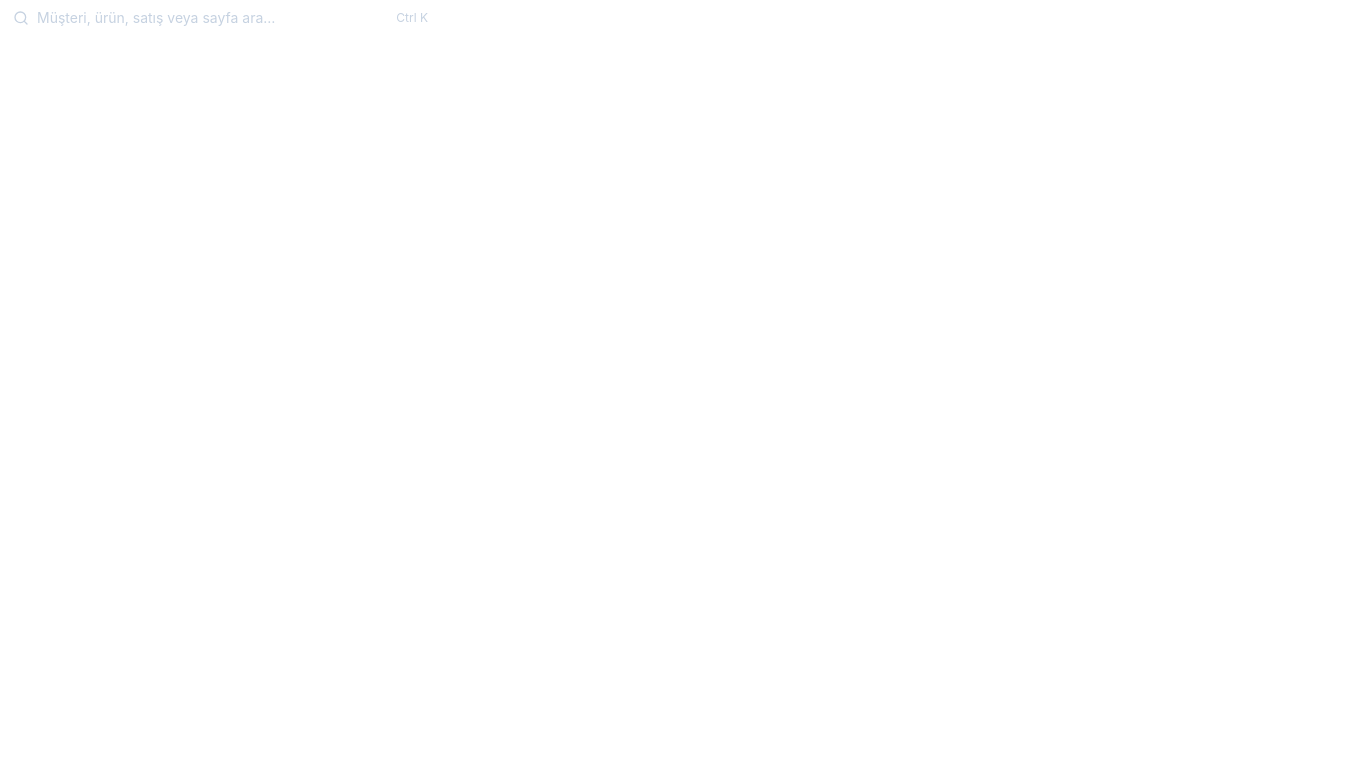
it: CommandMenu (Ctrl+K) › API araması 2 karakterden sonra çağrılır; sonuç yoksa mesaj gösterir
This screenshot has width=1366, height=768.
Press k
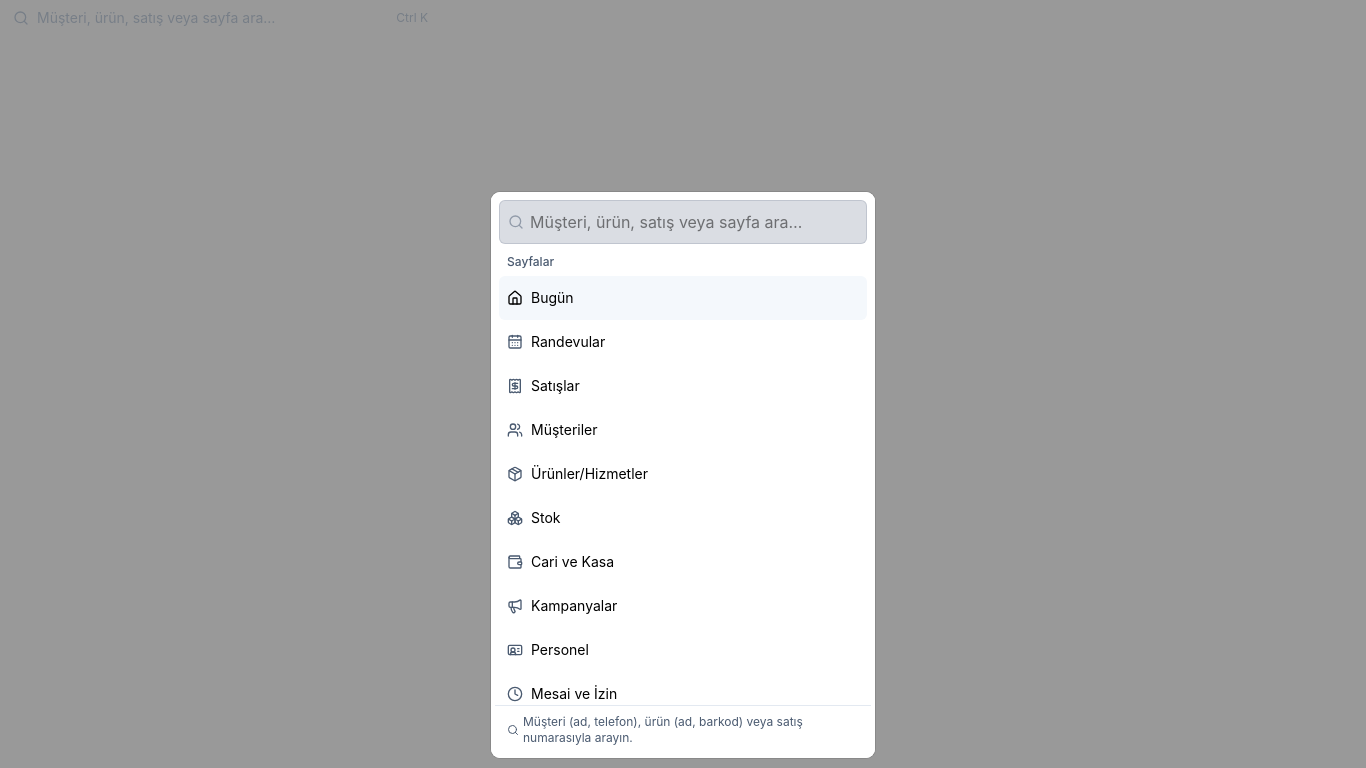
Type "zzz" into the dropdown with placeholder "Müşteri, ürün, satış veya sayfa ara…". click: (695, 222)
box: [524, 210, 866, 234]
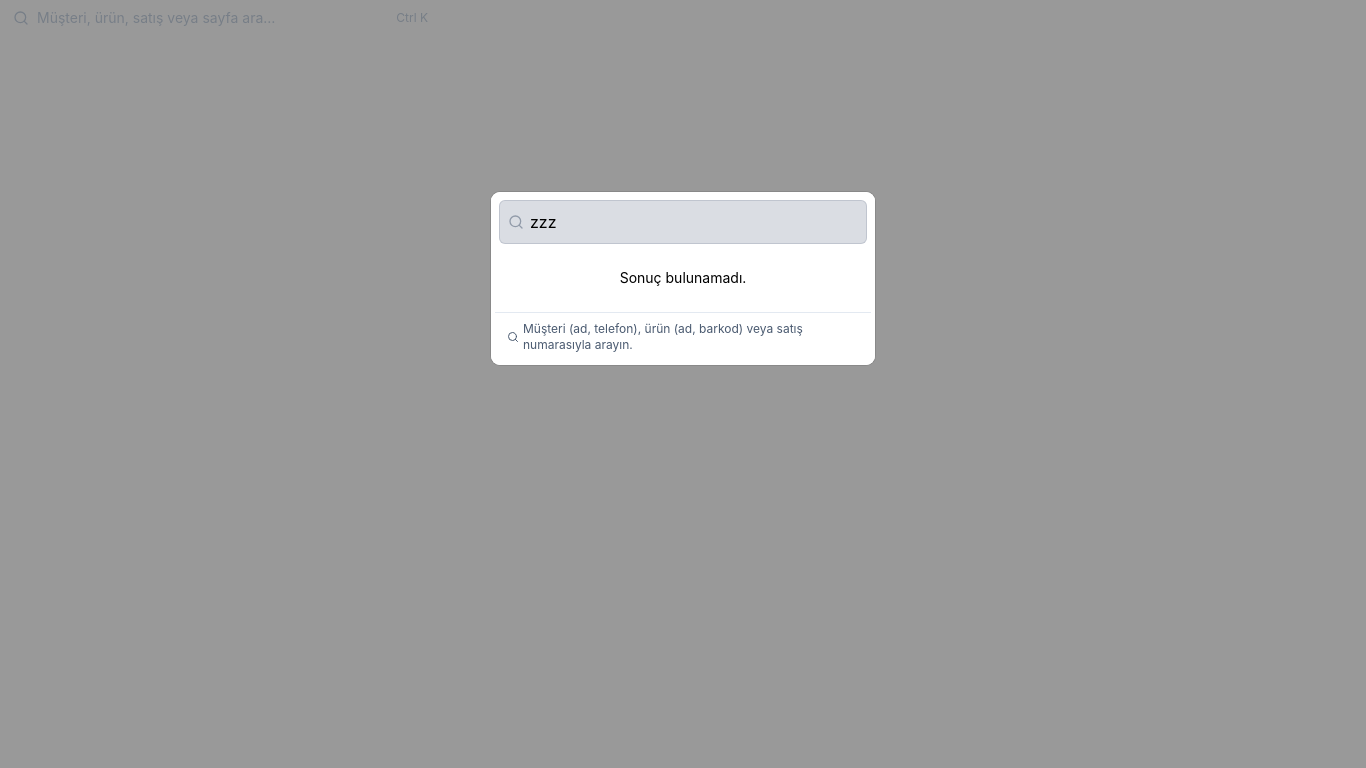
Now the text "Sonuç bulunamadı." is shown, box [620, 269, 746, 286]
